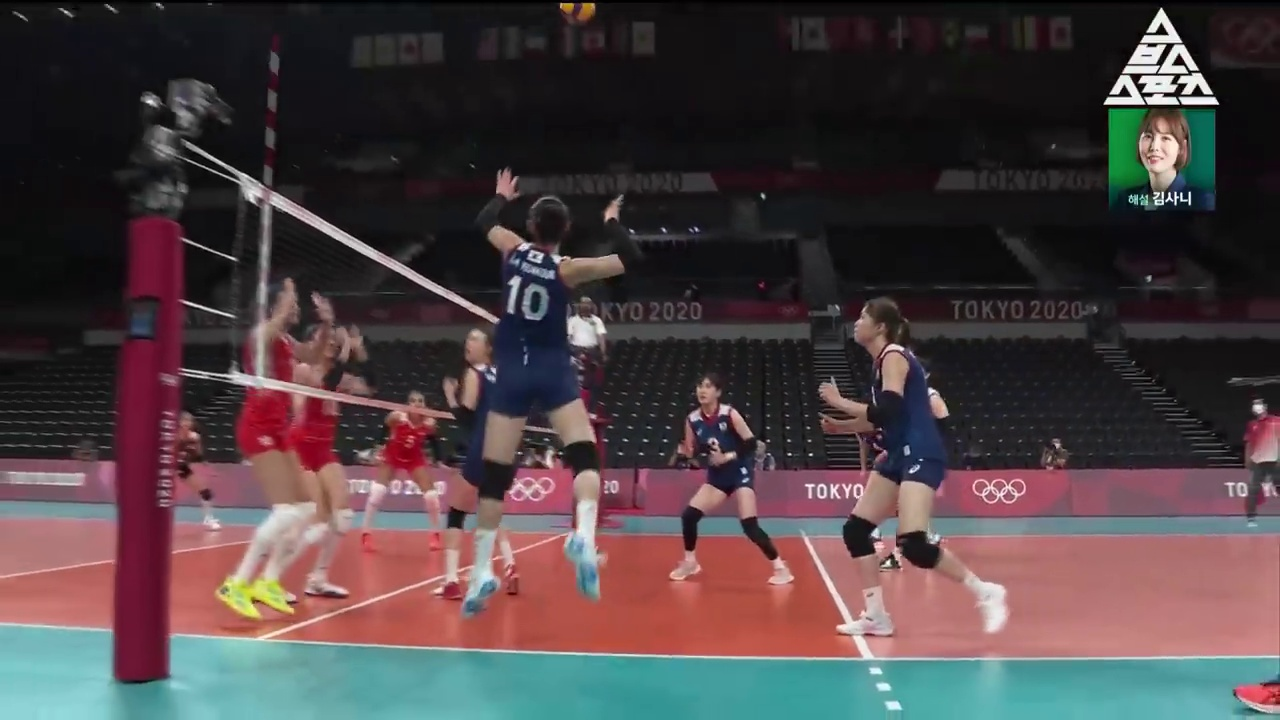ball: (559, 0, 597, 20)
player: (464, 169, 625, 618), (820, 299, 1008, 634), (672, 372, 796, 584), (434, 329, 520, 599)
player 1: (218, 276, 334, 616), (255, 321, 378, 600), (364, 371, 455, 551), (162, 409, 222, 527)
referee: (568, 296, 612, 418)
